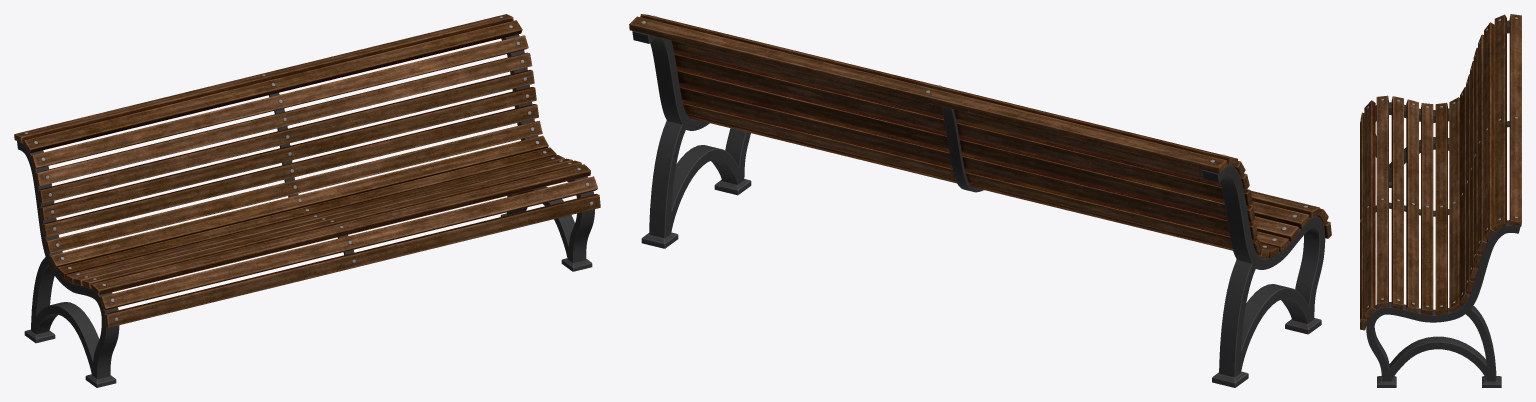
The model's file is bench1213_jpg.fbx.
3 views of the same model, side by side, from view 1: azimuth 30°, elevation 25°; view 2: azimuth 150°, elevation 25°; view 3: azimuth 270°, elevation 25° (orthographic). The views are drawn at different scales.
Visible parts, largest first — view 1: Bench; view 2: Bench; view 3: Bench.
Part boxes in pixels (box(x1,y1,x2,y2)): Bench: box(14, 14, 600, 387); Bench: box(629, 14, 1331, 387); Bench: box(1360, 14, 1521, 387).
Size of the model in its own units: 204 by 76.07 by 67.02.
1 material, 1 textured.
